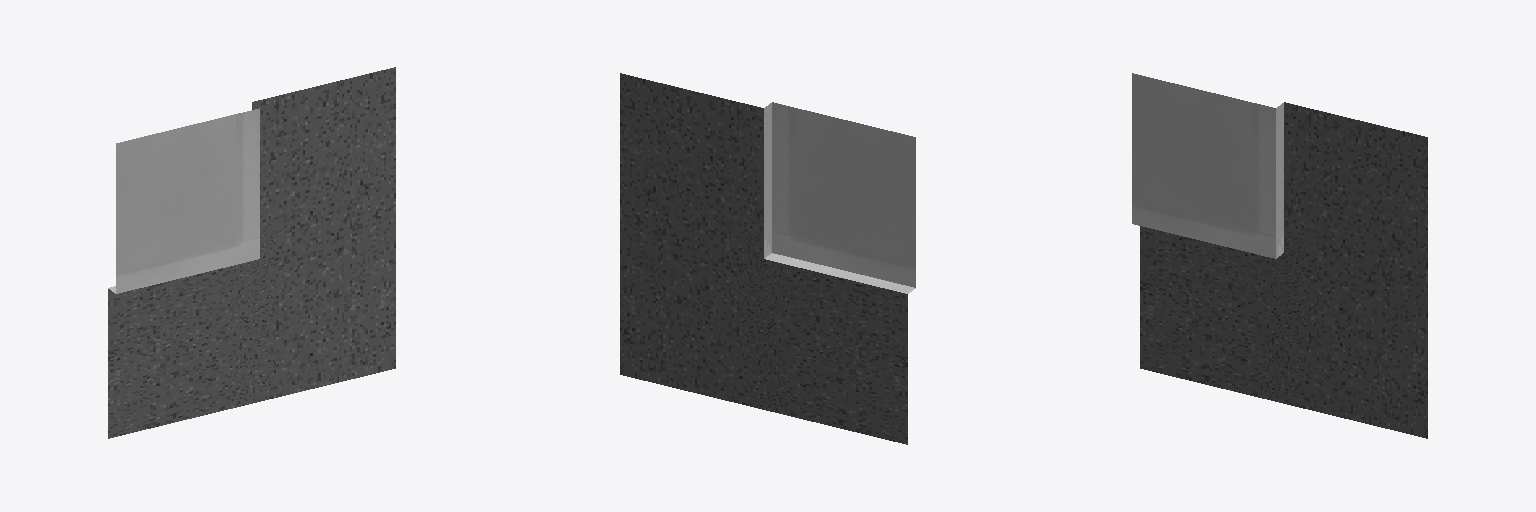
3 views of the same model, side by side, from view 1: azimuth 30°, elevation 25°; view 2: azimuth 150°, elevation 25°; view 3: azimuth 330°, elevation 25° (orthographic).
Parts seen in each view (by area): view 1: Plane; view 2: Plane; view 3: Plane.
Part boxes in pixels (x1,y1,x2,y2): Plane: (108, 67, 395, 438); Plane: (620, 73, 915, 444); Plane: (1132, 73, 1427, 438).
Bounding box in the file's own units: 2 × 2 × 0.1.
Materials: 1 (1 with a texture image).